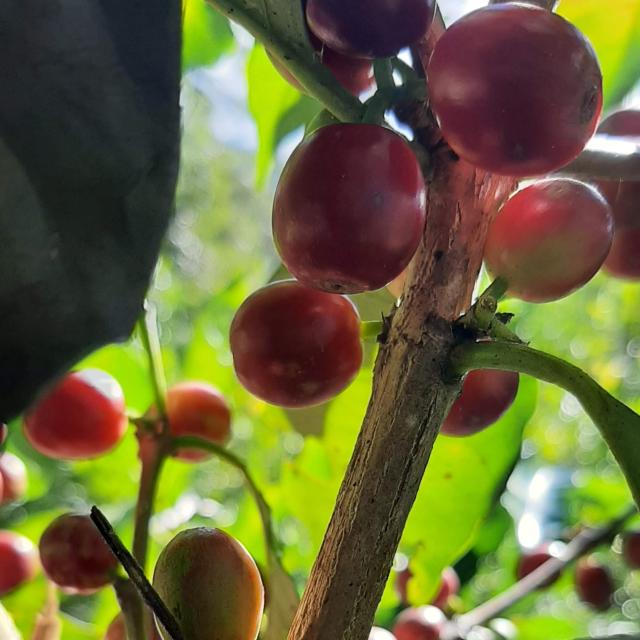red: (428, 2, 604, 178), (272, 122, 426, 294), (229, 280, 363, 409), (22, 369, 127, 461), (306, 0, 436, 58), (38, 515, 117, 596), (441, 370, 520, 437), (166, 382, 231, 445)
yellow: (484, 178, 615, 303)
